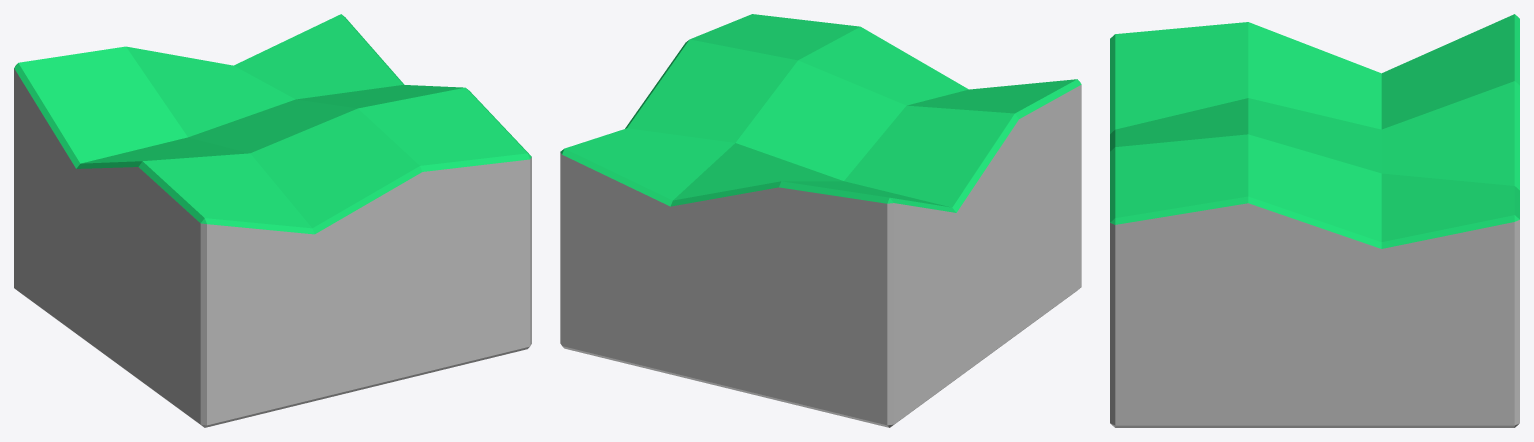
Rendered from Terrain.fbx.
3 renders of one model, left to right at view 1: azimuth 30°, elevation 25°; view 2: azimuth 150°, elevation 25°; view 3: azimuth 270°, elevation 25°, orthographic. The views are drawn at different scales.
Visible parts, largest first — view 1: Cube; view 2: Cube; view 3: Cube.
Boxes of the visible parts, bbox=[...] form: Cube: bbox=[14, 14, 531, 427]; Cube: bbox=[560, 14, 1081, 427]; Cube: bbox=[1110, 14, 1519, 427].
Bounding box in the file's own units: 80 × 52.78 × 80.
